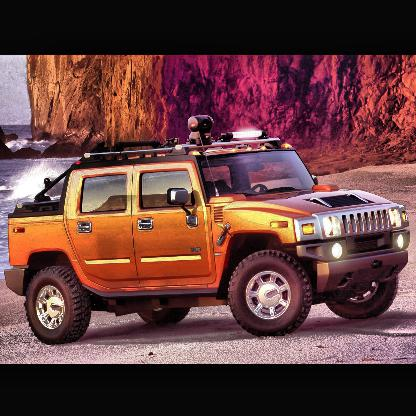HUMMER H2 SUT Crew Cab 2009: (6, 116, 410, 346)
